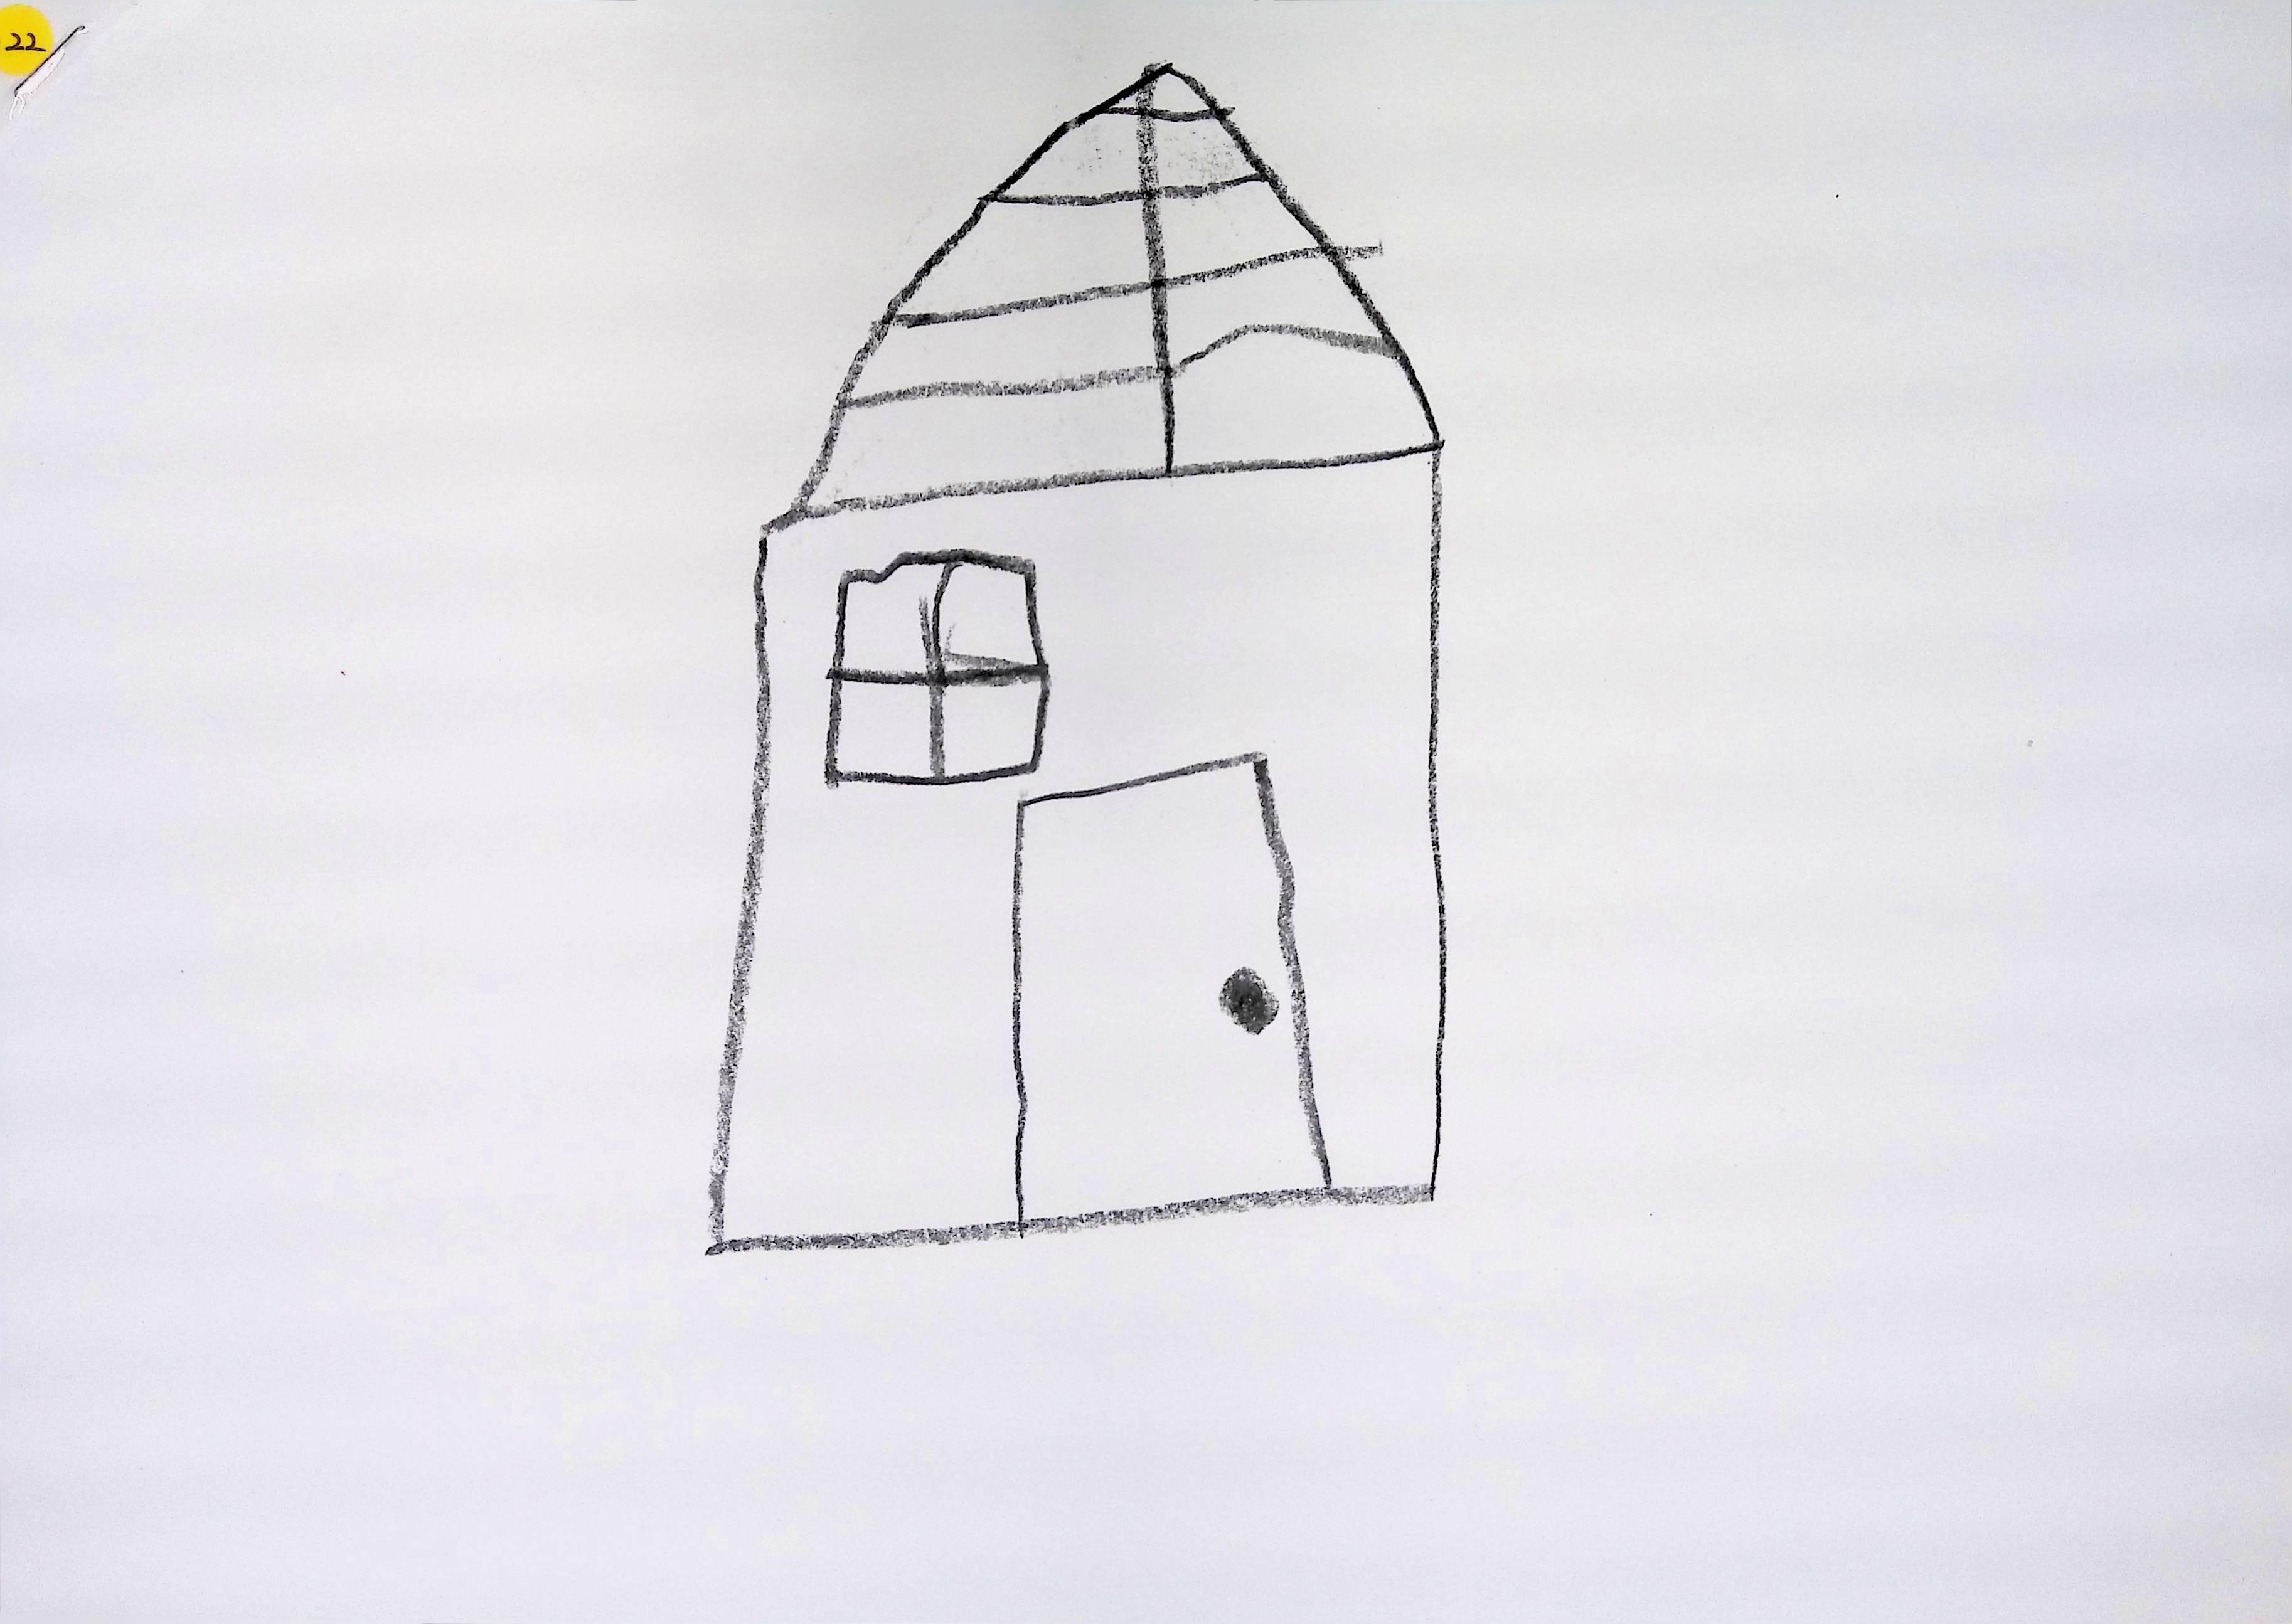door: (1018, 763, 1324, 1222)
house: (710, 62, 1448, 1251)
roof: (772, 62, 1443, 524)
wall: (717, 453, 1441, 1241)
window: (824, 548, 1049, 784)
